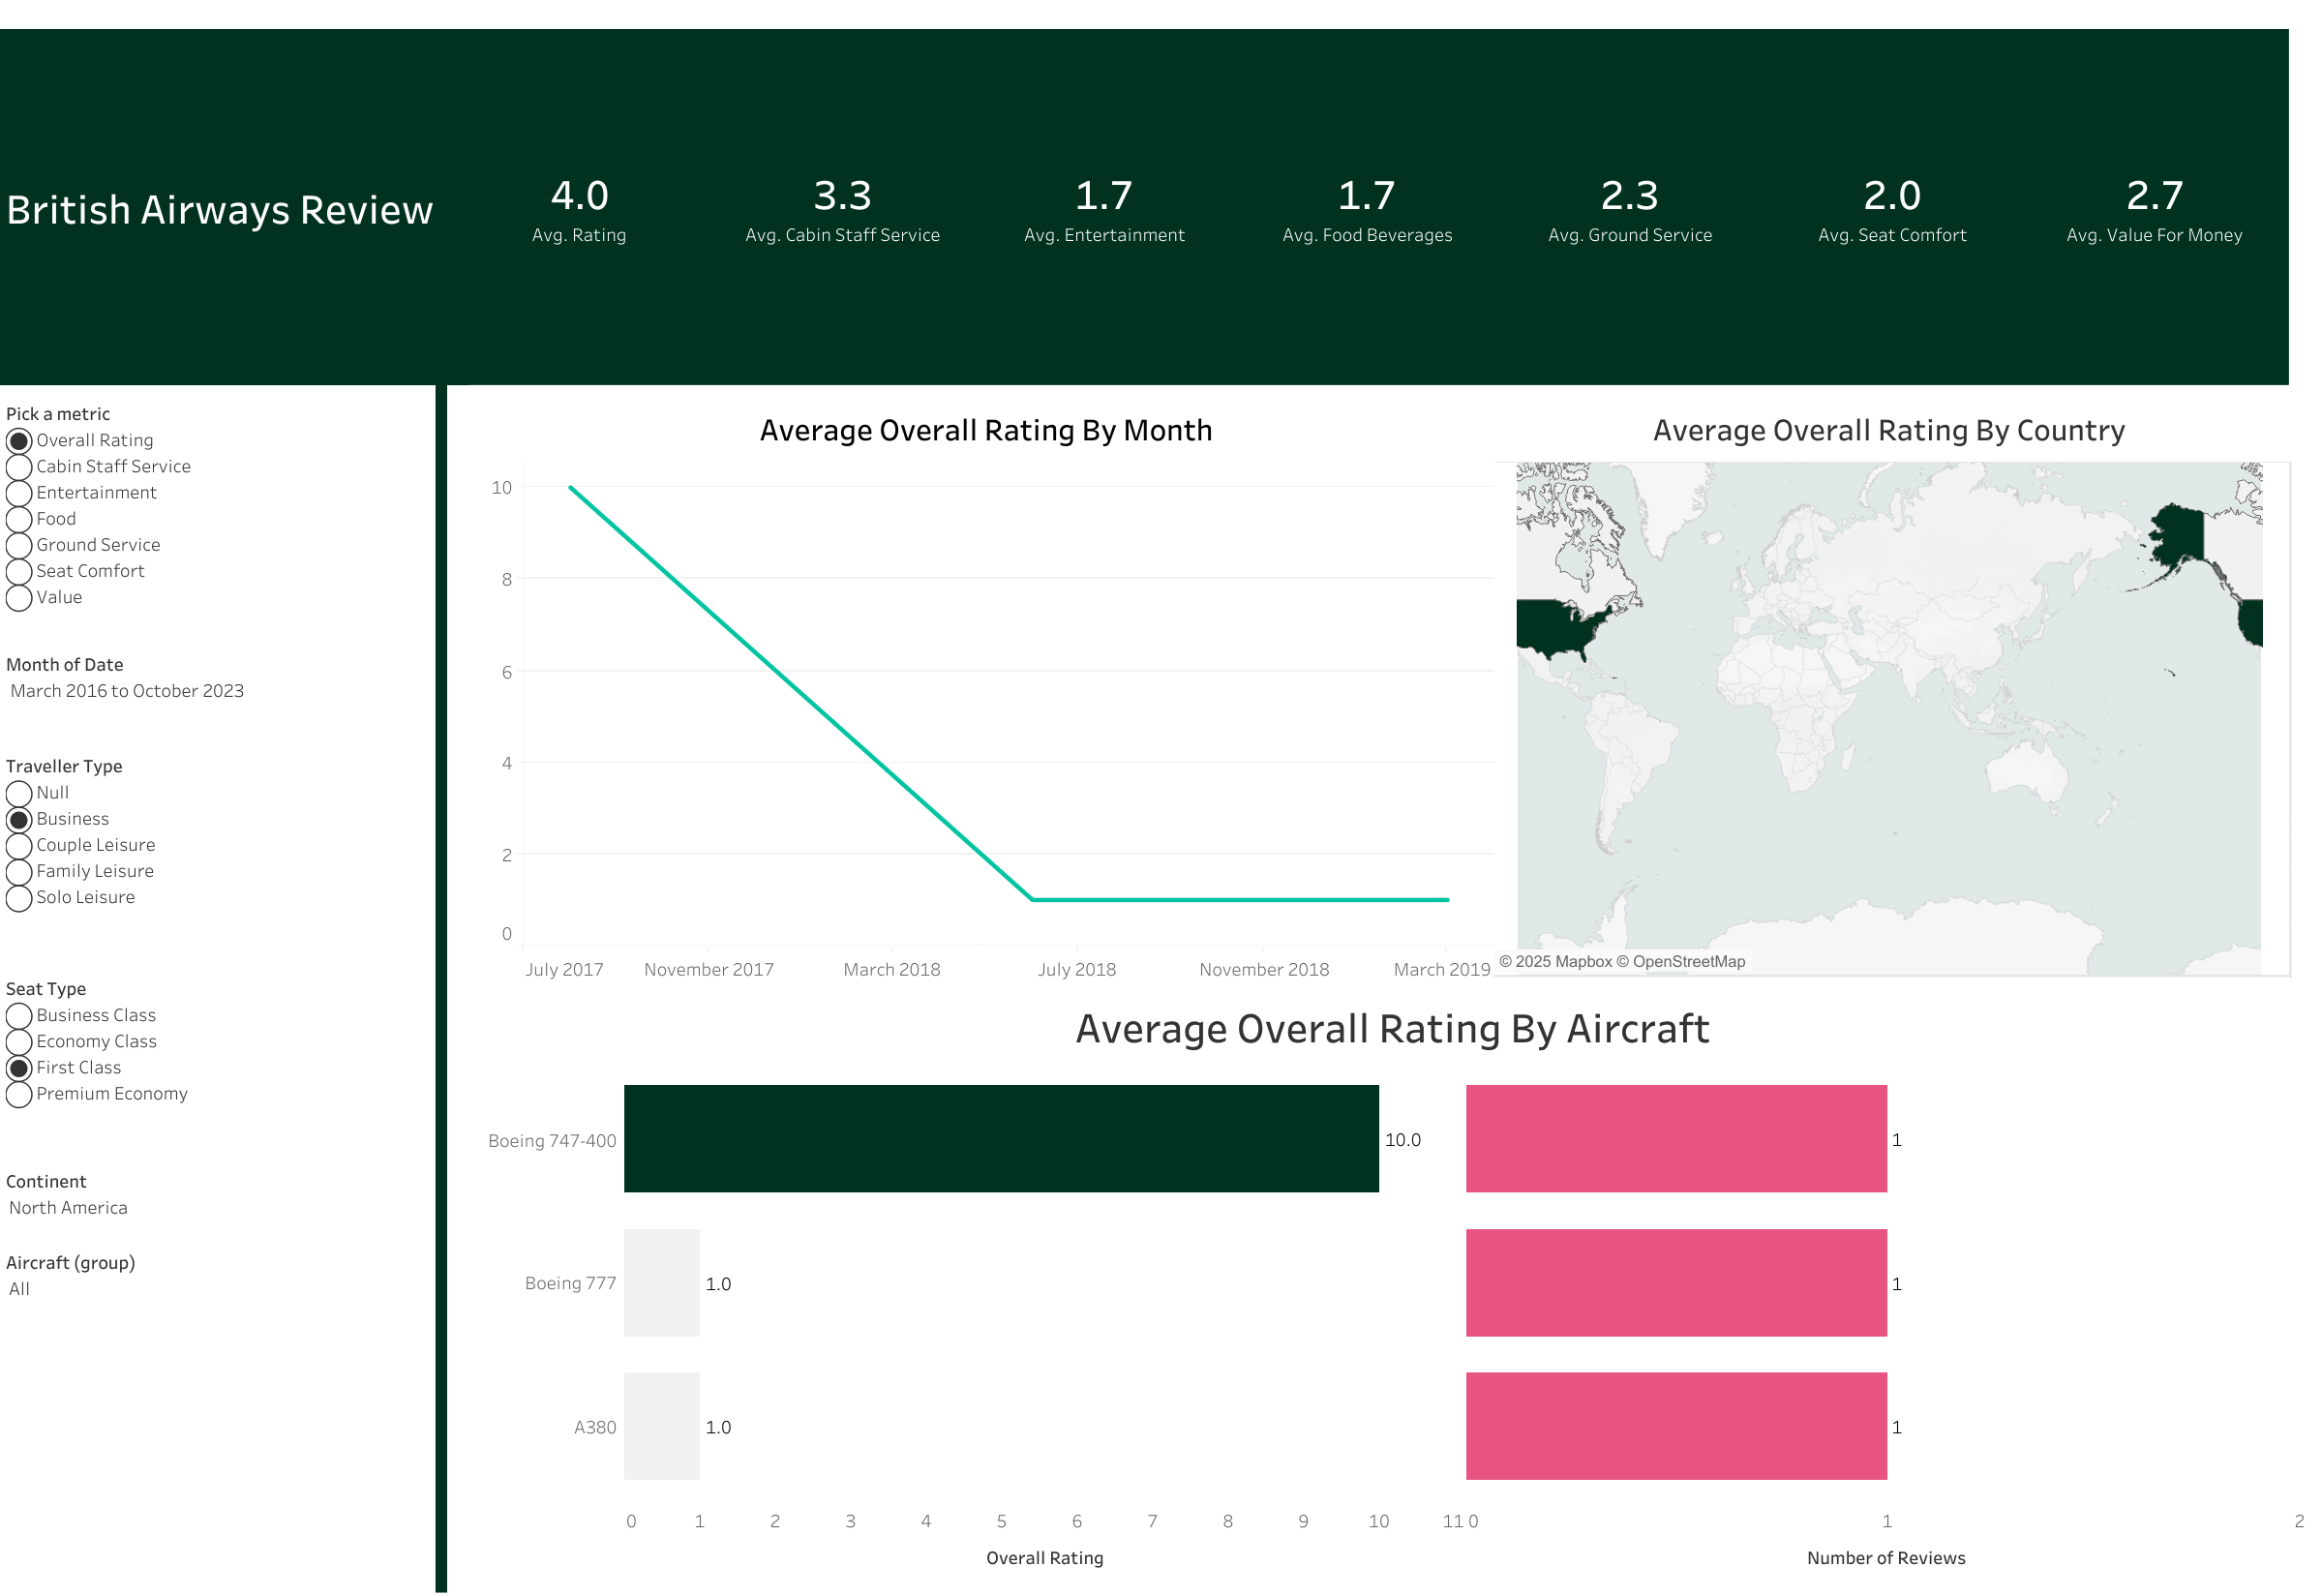

The page's visual inventory and layout, read from the dashboard file:
{"tool":"tableau","page":{"name":"Dashboard 1","canvas":[1000,1000],"units":"permille","ordinal":0},"visuals":[{"type":"worksheet","title":"Summary","mark":"Automatic","box":[193.1,18.2,791.2,221.8]},{"type":"blank","box":[187.5,90.9,5,906.4]},{"type":"parameter","param":"[Parameters].[Parameter 1]","box":[0,245.8,184.4,208.2]},{"type":"worksheet","title":"month","mark":"Automatic","rows":["Calculation_955326128310890496"],"cols":["date"],"box":[206.2,250,436.9,369.1]},{"type":"worksheet","title":"Sheet 1","mark":"Automatic","box":[640.6,250,345.6,361.8]},{"type":"filter","title":"Sheet 1","param":"[federated.06jxt930f53itm186yc0j1w2312d].[tmn:date:qk]","box":[0,454,184.4,70]},{"type":"filter","title":"Sheet 1","param":"[federated.06jxt930f53itm186yc0j1w2312d].[none:traveller_type:nk]","box":[0,524,184.4,183.6]},{"type":"worksheet","title":"Sheet 4","mark":"Automatic","cols":["Calculation_955326128310890496","ba!reviews_D53502A1B2A44A78AD20C8796F191D16"],"box":[206.2,620,786.9,369.1]},{"type":"filter","title":"Sheet 1","param":"[federated.06jxt930f53itm186yc0j1w2312d].[none:seat_type:nk]","box":[0,707.6,184.4,159.1]},{"type":"filter","title":"Sheet 1","param":"[federated.06jxt930f53itm186yc0j1w2312d].[none:Continent:nk]","box":[0,866.7,184.4,63.6]},{"type":"filter","title":"Sheet 1","param":"[federated.06jxt930f53itm186yc0j1w2312d].[Aircraft (group)]","box":[0,930.4,184.4,63.6]}]}

Visuals, with their boxes on the dashboard's canvas, which has no fixed pixel size, in thousandths of its width and height (x1, y1, x2, y2). These are canvas units, not pixel positions in the 2322x1596 screenshot, which may show the page scaled, cropped or inside an application window:
"Summary" worksheet: 193,18,984,240
blank: 188,91,192,997
parameter: 0,246,184,454
"month" worksheet: 206,250,643,619
"Sheet 1" worksheet: 641,250,986,612
"Sheet 1" filter: 0,454,184,524
"Sheet 1" filter: 0,524,184,708
"Sheet 4" worksheet: 206,620,993,989
"Sheet 1" filter: 0,708,184,867
"Sheet 1" filter: 0,867,184,930
"Sheet 1" filter: 0,930,184,994
